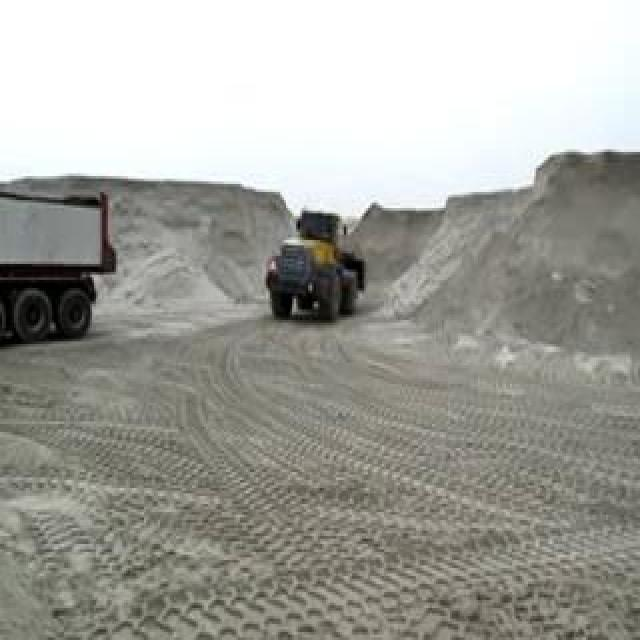buldozerpayloadergrader: (260, 203, 364, 320)
dump_truck: (0, 187, 116, 341)
